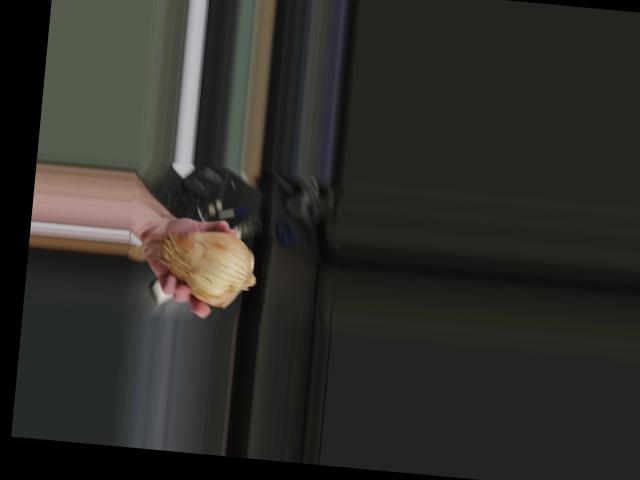onion: (160, 225, 258, 308)
